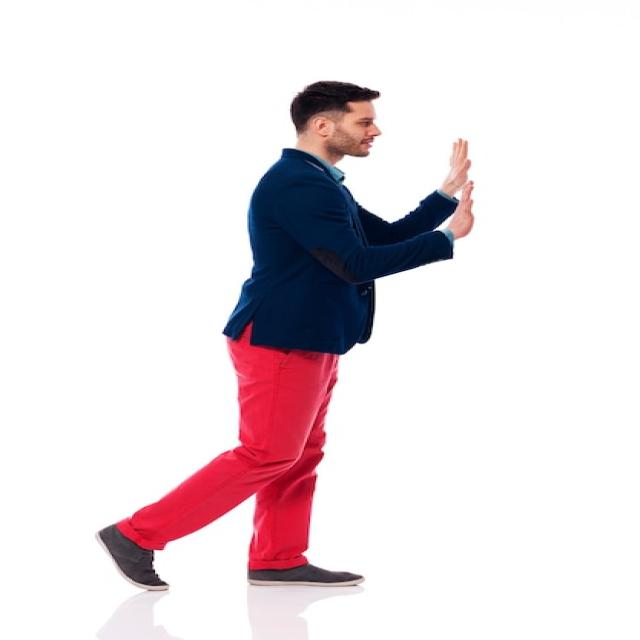Person: (96, 80, 472, 590)
